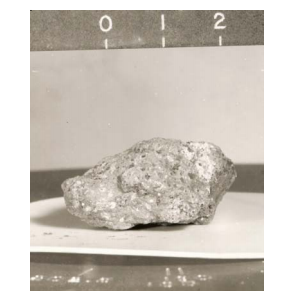Breccia: (46, 131, 252, 237)
